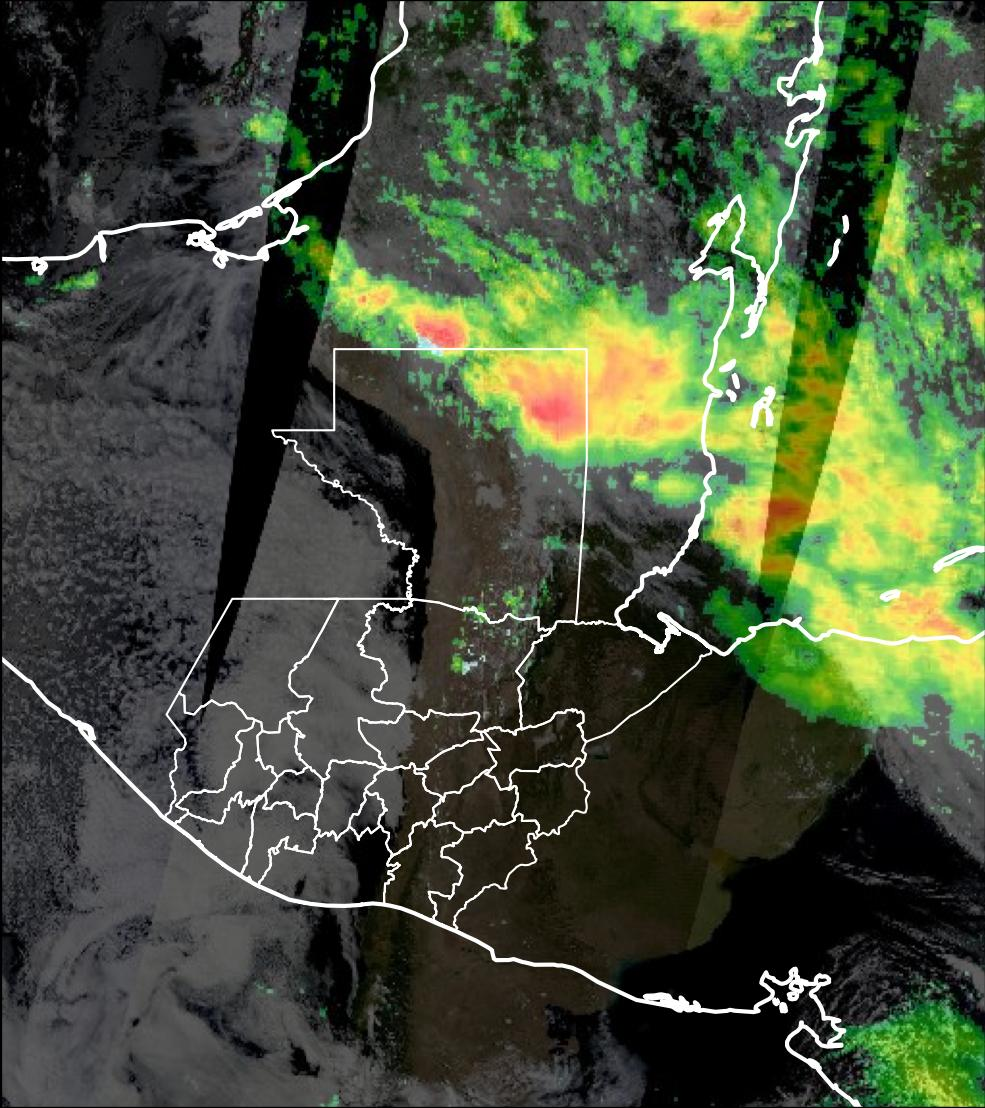precipitacion: (478, 352, 587, 450), (718, 487, 818, 557), (406, 298, 478, 345)
